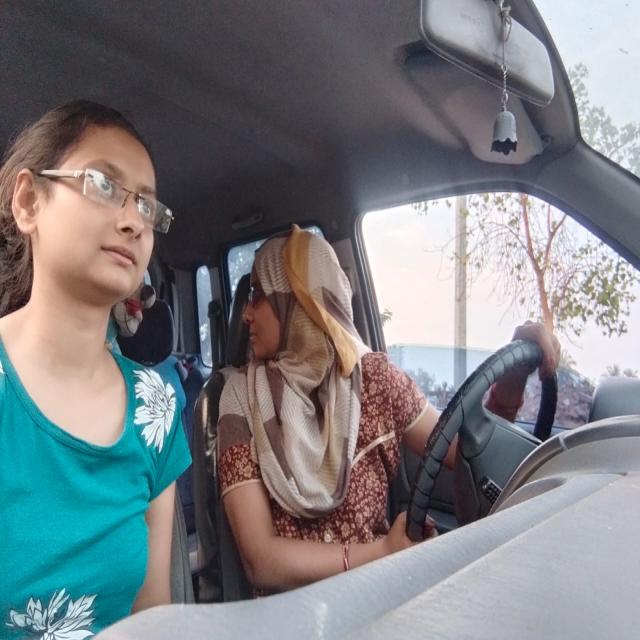LeftRight: (238, 222, 352, 366)
person: (4, 87, 174, 325)
